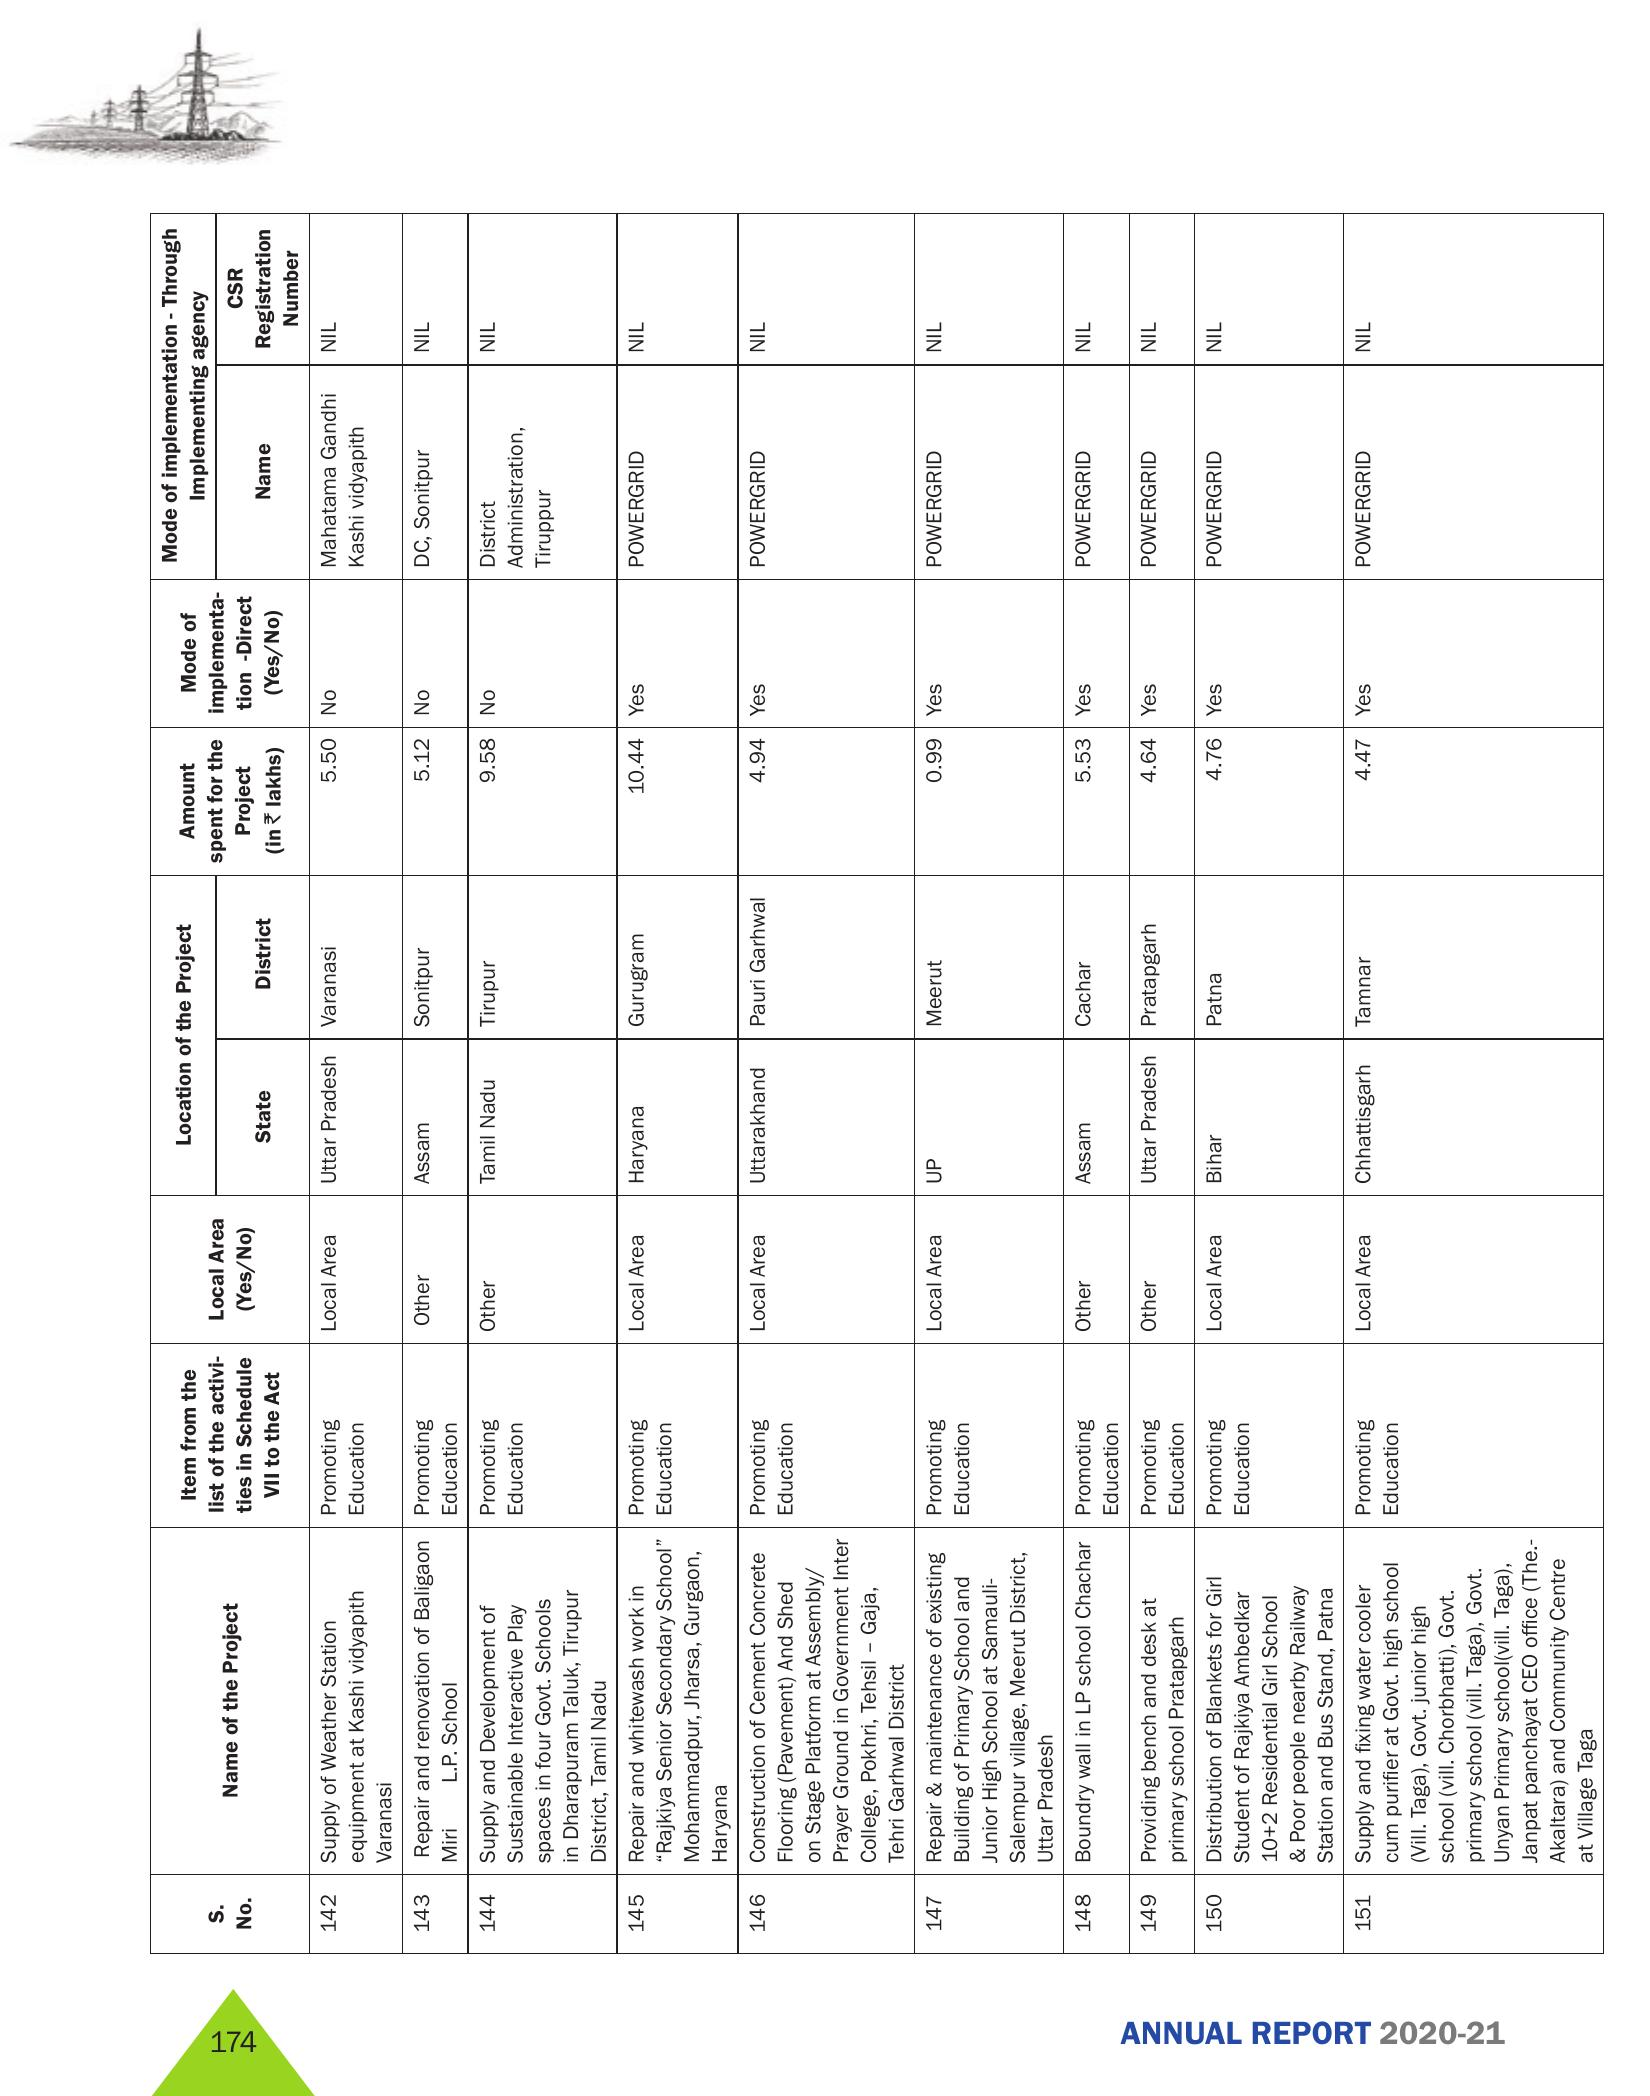Footer: (0, 1979, 1650, 2096)
Header: (0, 0, 1650, 175)
Table: (105, 196, 1614, 1982)
